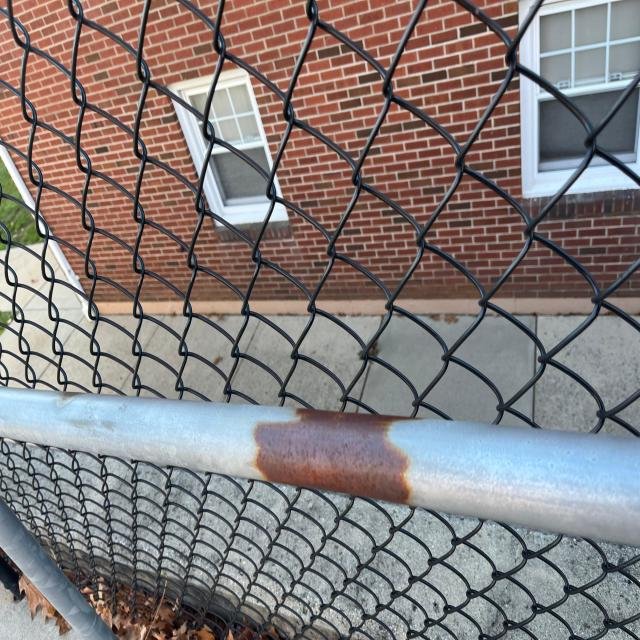Crevice Corrosion: (254, 409, 426, 499)
